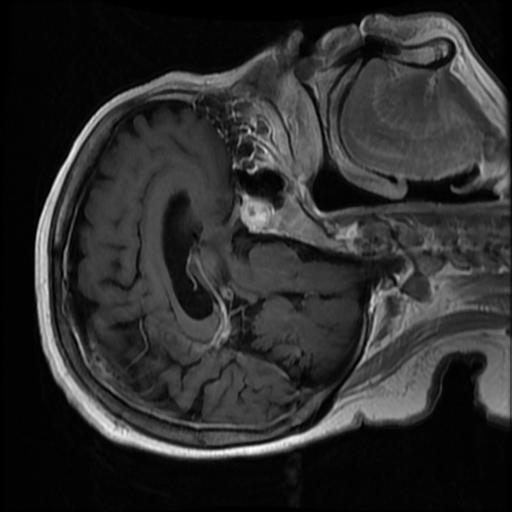pituitary tumour: (241, 195, 273, 234)
